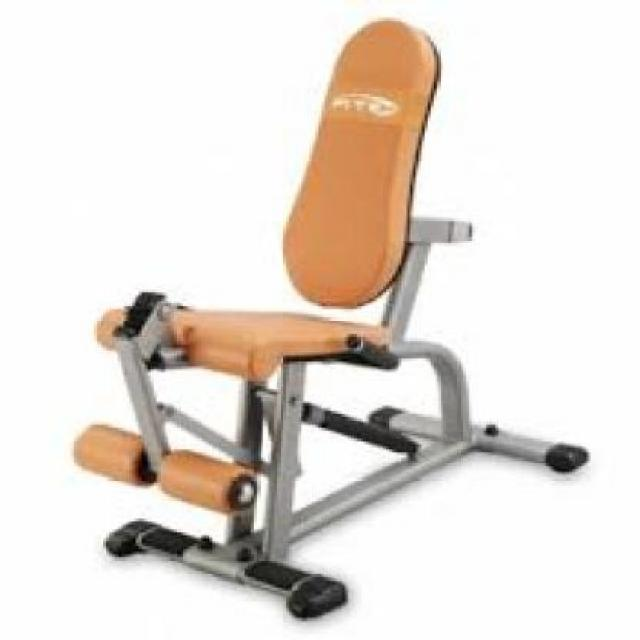leg extension: (60, 11, 600, 626)
